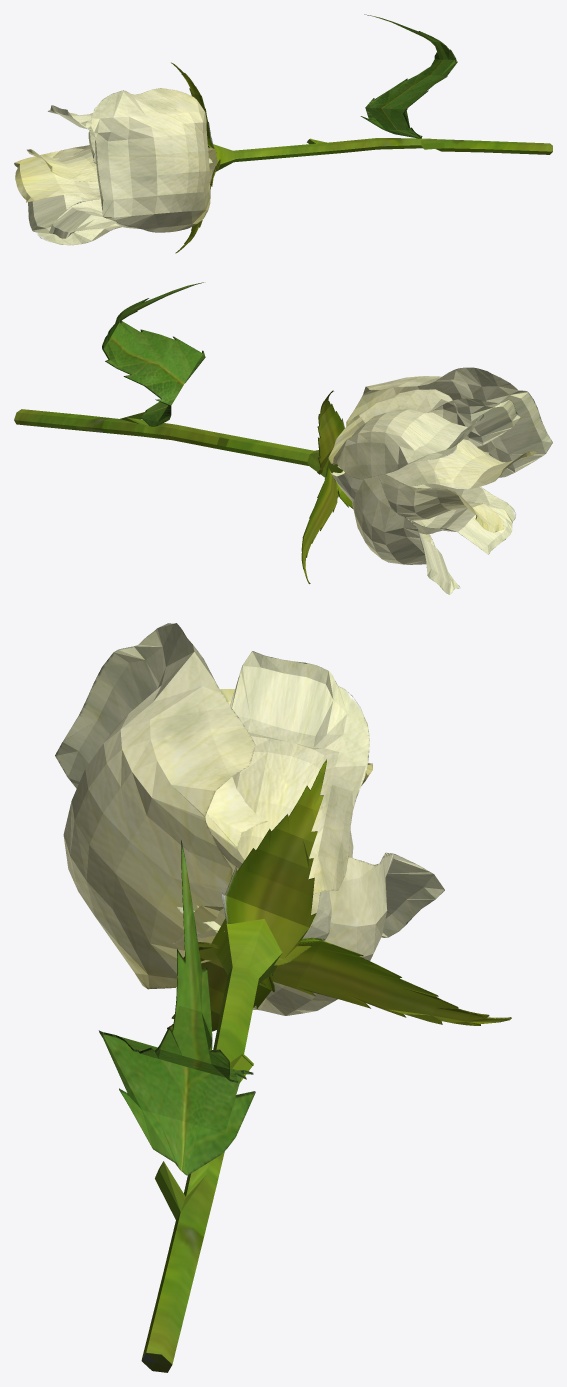
File: Rose.obj
3 views of the same model, one above another, from view 1: azimuth 30°, elevation 25°; view 2: azimuth 150°, elevation 25°; view 3: azimuth 270°, elevation 25° (orthographic). The views are drawn at different scales.
Parts seen in each view (by area): view 1: Plane760, Cylinder033, Plane762, Plane759, Plane767, Plane766, Plane758, Plane763, Plane761; view 2: Plane760, Plane761, Plane762, Cylinder033, Plane767, Plane757, Plane759, Plane758, Plane766, Plane764, Plane763; view 3: Plane760, Plane761, Plane762, Cylinder033, Plane767, Plane763, Plane764, Plane757, Plane765, Plane759.
Boxes of the visible parts, bbox=[...] form: Plane760: bbox=[91, 88, 210, 232]; Cylinder033: bbox=[208, 138, 552, 171]; Plane762: bbox=[360, 14, 457, 138]; Plane759: bbox=[14, 145, 100, 202]; Plane767: bbox=[28, 147, 217, 245]; Plane766: bbox=[49, 169, 212, 238]; Plane758: bbox=[27, 149, 212, 181]; Plane763: bbox=[171, 62, 216, 152]; Plane761: bbox=[48, 105, 92, 129]; Plane760: bbox=[346, 367, 552, 477]; Plane761: bbox=[333, 409, 483, 479]; Plane762: bbox=[102, 282, 205, 426]; Cylinder033: bbox=[14, 409, 342, 481]; Plane767: bbox=[344, 441, 460, 594]; Plane757: bbox=[328, 389, 520, 463]; Plane759: bbox=[330, 472, 503, 532]; Plane758: bbox=[337, 439, 537, 489]; Plane766: bbox=[341, 471, 515, 554]; Plane764: bbox=[301, 466, 339, 583]; Plane763: bbox=[317, 390, 344, 474]; Plane760: bbox=[55, 623, 255, 989]; Plane761: bbox=[197, 651, 369, 907]; Plane762: bbox=[98, 840, 255, 1175]; Cylinder033: bbox=[141, 918, 282, 1372]; Plane767: bbox=[193, 852, 444, 1015]; Plane763: bbox=[222, 759, 326, 965]; Plane764: bbox=[260, 937, 511, 1025]; Plane757: bbox=[205, 776, 267, 874]; Plane765: bbox=[167, 942, 274, 1031]; Plane759: bbox=[302, 763, 372, 940].
Bounding box in the file's own units: 5.05 × 1.86 × 2.02.
2 materials, 2 textured.
